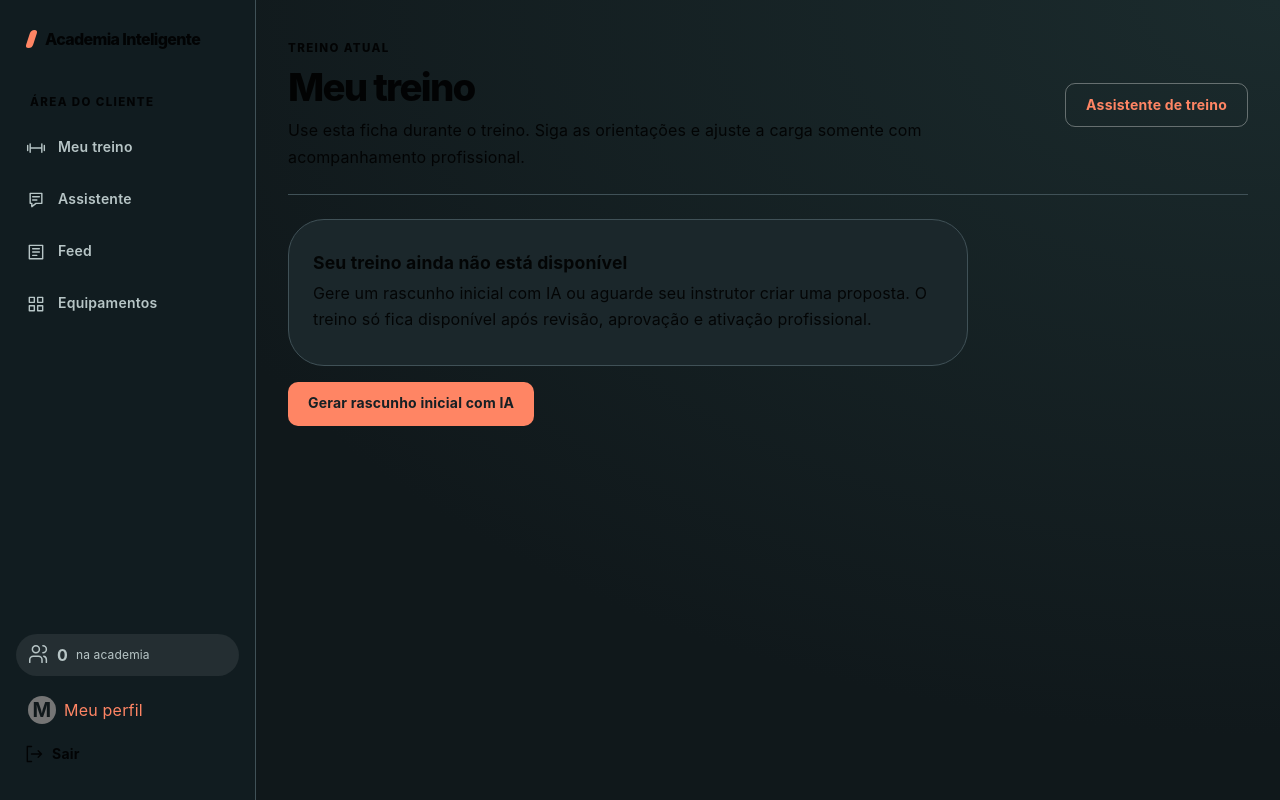
it: generates and displays a single initial AI draft for the client
Click the button "Gerar rascunho inicial com IA". click: (411, 404)
box: [288, 382, 534, 426]
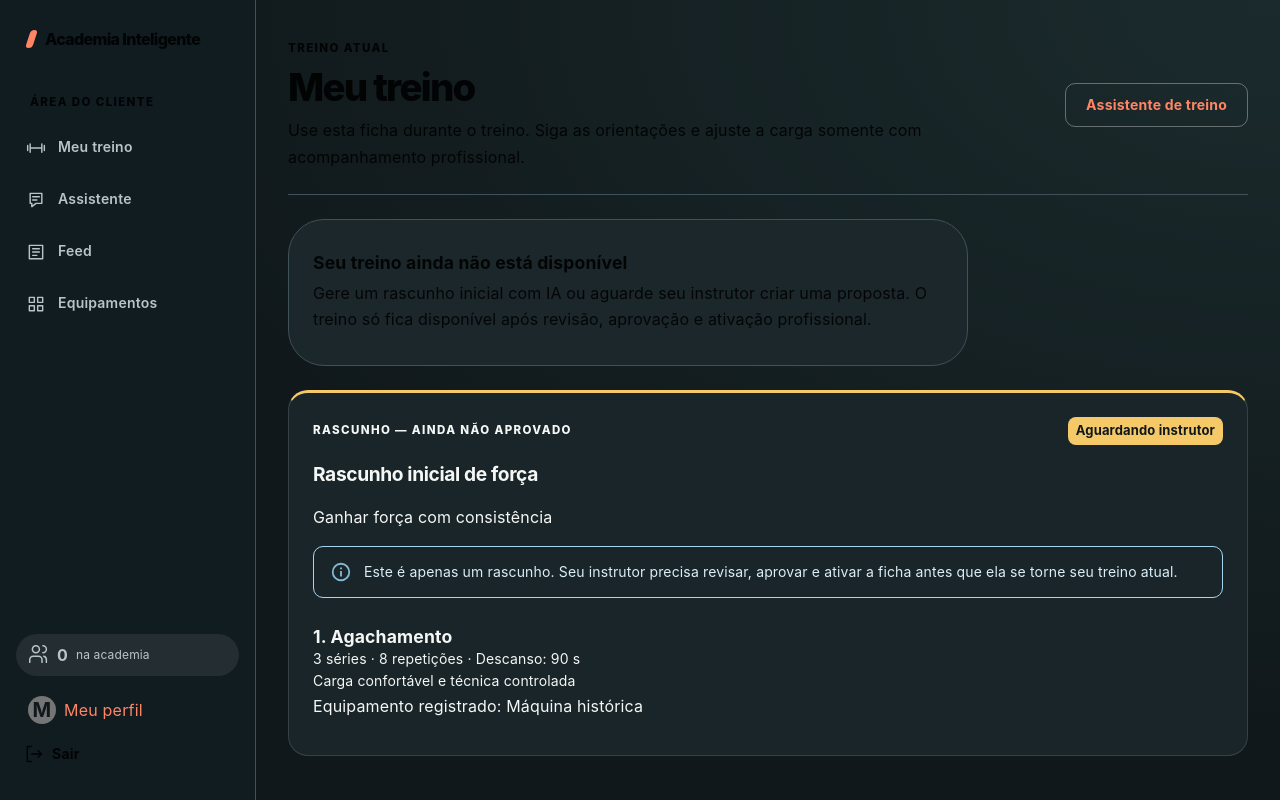
Now the heading "Rascunho inicial de força" is shown, box [313, 462, 538, 486]
Now the button "Gerar rascunho inicial com IA" is gone
